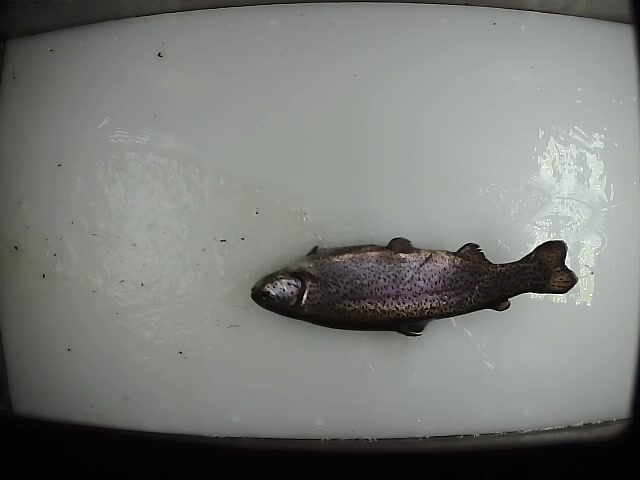Fish: (250, 235, 577, 338)
